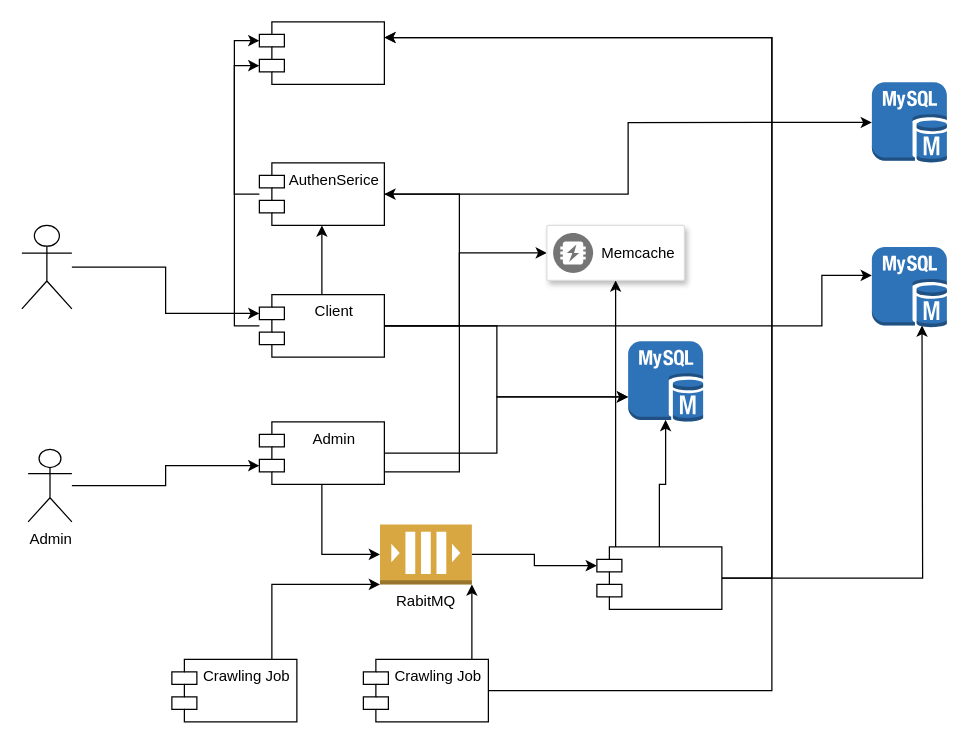
Some shapes in this 969 by 744 pixel diagram are drawn without their labels. The centre of each missing label's shape, as x and y in pixels:
"Config Sever" goes at [321,52].
"Sync Data" goes at [659,577].
"User" goes at [46,266].
